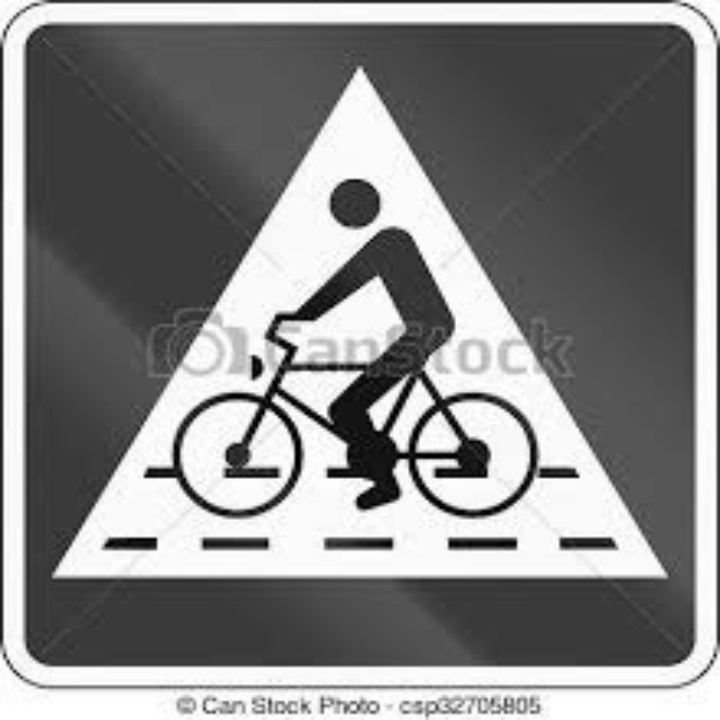bicycle: (165, 229, 545, 609)
